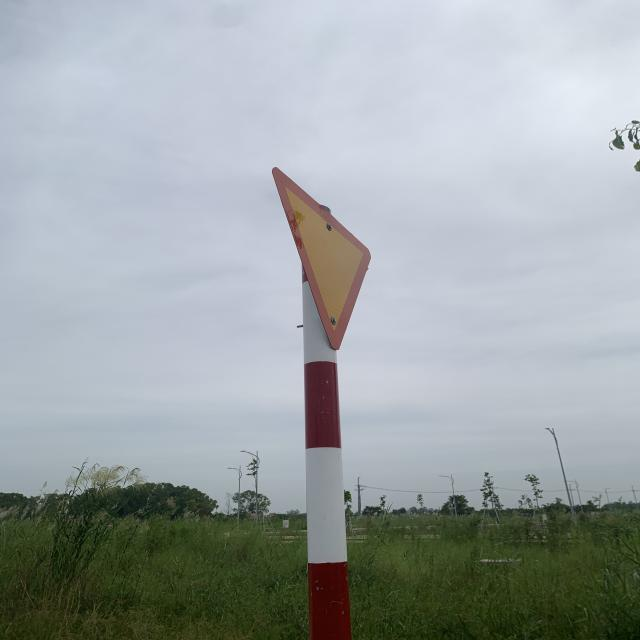Gioi_Han_Toc_Do_25: (272, 168, 371, 352)
